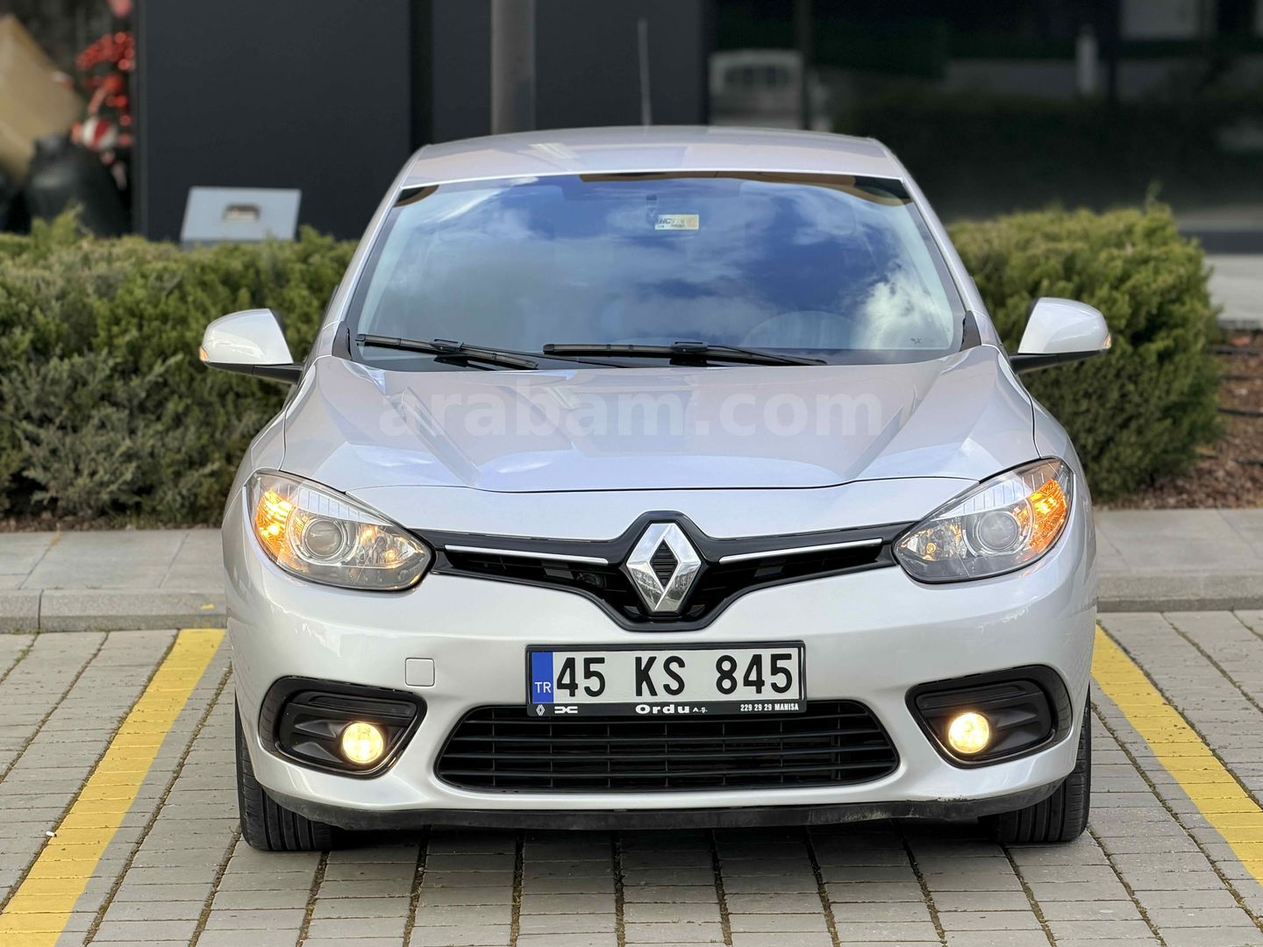plate: (529, 641, 803, 719)
